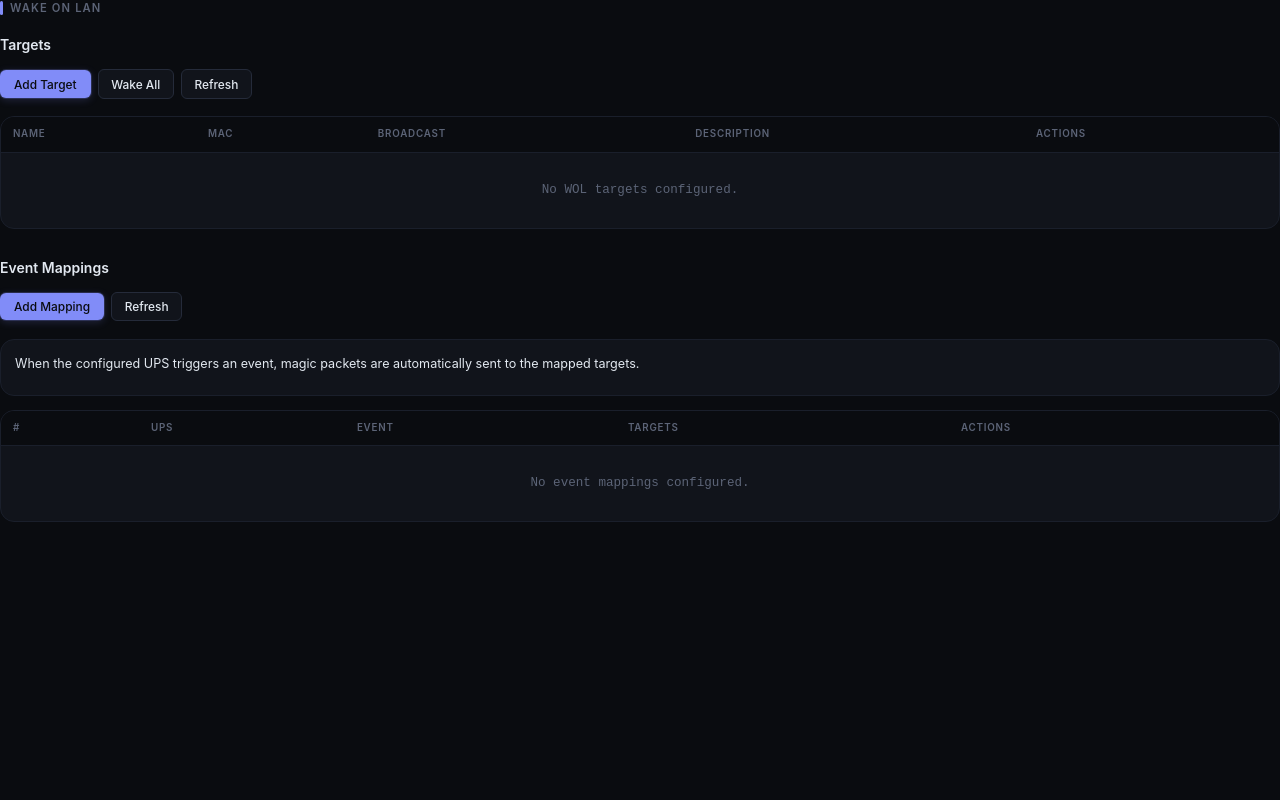
it: WakeOnLan › opens Add Target modal when button is clicked
Step 1. Click the button "Add Target" → (45, 84), box x1=0 y1=70 x2=91 y2=98
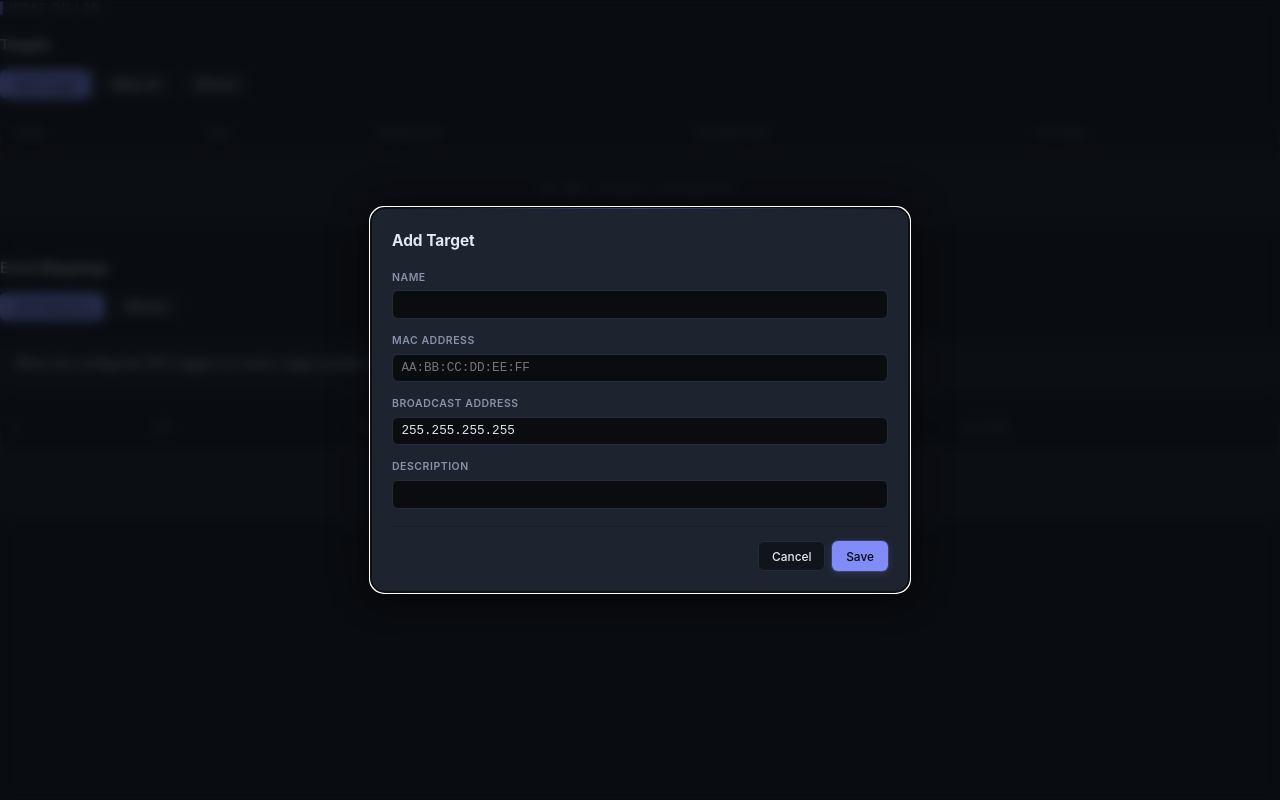
Result: the heading "Add Target" is shown at x1=392 y1=231 x2=475 y2=250
Result: the field with placeholder "AA:BB:CC:DD:EE:FF" is shown at x1=392 y1=354 x2=888 y2=382
